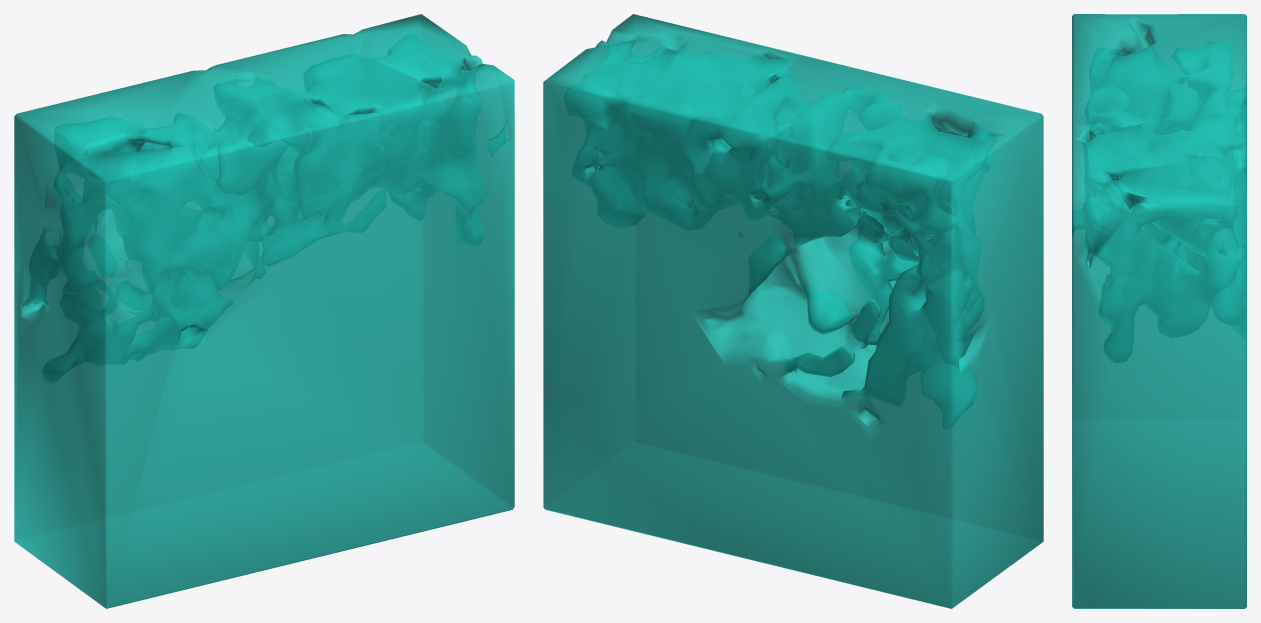
The picture shows the model from 3 angles, left to right: view 1: azimuth 30°, elevation 25°; view 2: azimuth 150°, elevation 25°; view 3: azimuth 270°, elevation 25°; orthographic projection. The views are drawn at different scales.
Visible parts, largest first — view 1: Liquid_Domain; view 2: Liquid_Domain; view 3: Liquid_Domain.
Boxes of the visible parts, box(x1,y1,x2,y2) form: Liquid_Domain: box(14, 14, 514, 608); Liquid_Domain: box(543, 14, 1043, 608); Liquid_Domain: box(1072, 14, 1246, 608).
Bounding box in the file's own units: 1965 × 1965 × 765.
